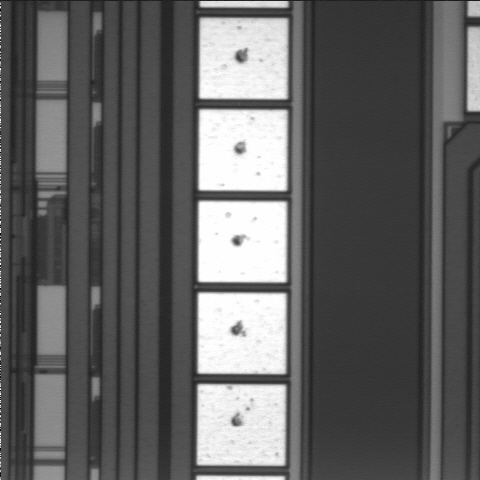pad: (197, 384, 286, 466), (199, 109, 287, 191), (199, 18, 288, 99), (198, 201, 287, 282), (198, 293, 286, 374)
